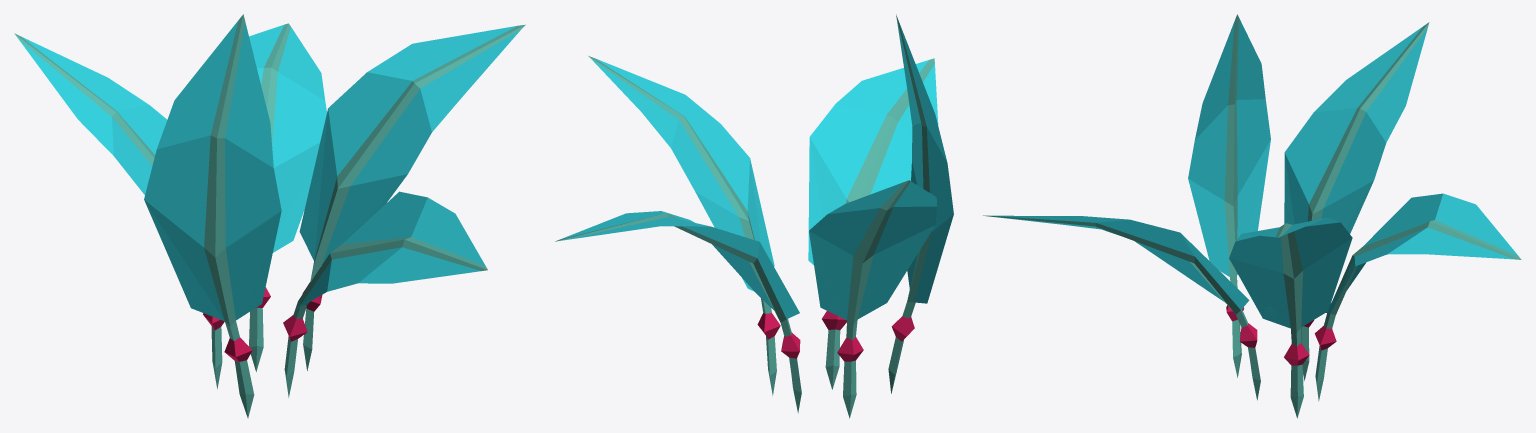
The model's file is Gras_04_Var_03.fbx.
3 views of the same model, side by side, from view 1: azimuth 30°, elevation 25°; view 2: azimuth 150°, elevation 25°; view 3: azimuth 270°, elevation 25° (orthographic). The views are drawn at different scales.
Parts seen in each view (by area): view 1: Gras_04_Var_03; view 2: Gras_04_Var_03; view 3: Gras_04_Var_03.
Part boxes in pixels (left/top/right/bottom): Gras_04_Var_03: left=14, top=14, right=525, bottom=418; Gras_04_Var_03: left=555, top=14, right=953, bottom=418; Gras_04_Var_03: left=983, top=14, right=1521, bottom=418.
Bounding box in the file's own units: 0.3436 × 0.2549 × 0.2804.
